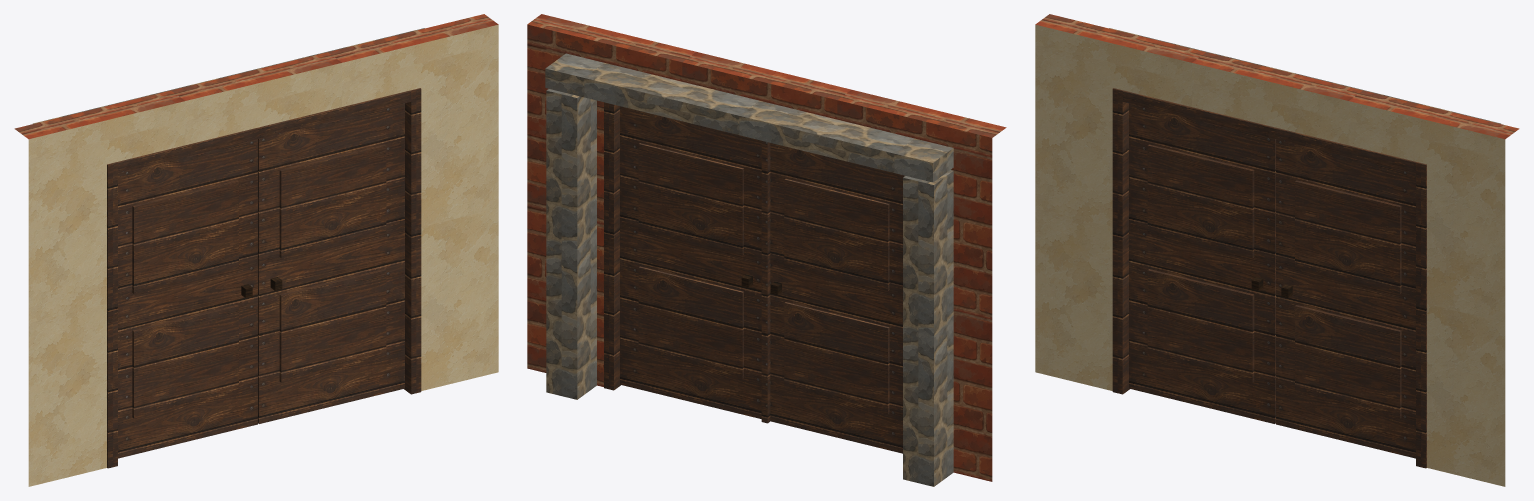
File: paired-timber-entry-v1.gltf
3 views of the same model, side by side, from view 1: azimuth 30°, elevation 25°; view 2: azimuth 150°, elevation 25°; view 3: azimuth 330°, elevation 25° (orthographic).
Visible parts, largest first — view 1: door-L0-door (×2), exterior-L0-plaster, facade-trim-L0-door, datum-band-L0-plaster, datum-band-L0-brick; view 2: door-L0-door (×2), facade-trim-L0-stone, exterior-L0-brick, datum-band-L0-brick, facade-trim-L0-door; view 3: door-L0-door (×2), exterior-L0-plaster, facade-trim-L0-door, datum-band-L0-plaster, datum-band-L0-brick.
Part boxes in pixels (x1,y1,x2,y2): door-L0-door (×2): (118, 103, 404, 458); exterior-L0-plaster: (28, 44, 498, 486); facade-trim-L0-door: (107, 88, 421, 468); datum-band-L0-plaster: (28, 24, 498, 158); datum-band-L0-brick: (14, 14, 498, 139); door-L0-door (×2): (620, 106, 903, 453); facade-trim-L0-stone: (545, 53, 953, 486); exterior-L0-brick: (527, 44, 992, 481); datum-band-L0-brick: (527, 14, 1006, 157); facade-trim-L0-door: (604, 102, 904, 390); door-L0-door (×2): (1129, 103, 1415, 458); exterior-L0-plaster: (1035, 44, 1505, 486); facade-trim-L0-door: (1112, 88, 1426, 468); datum-band-L0-plaster: (1035, 24, 1505, 158); datum-band-L0-brick: (1035, 14, 1519, 139).
Bounding box in the file's own units: 3 × 2.12 × 0.4.
Materials: 5 (5 with a texture image).
